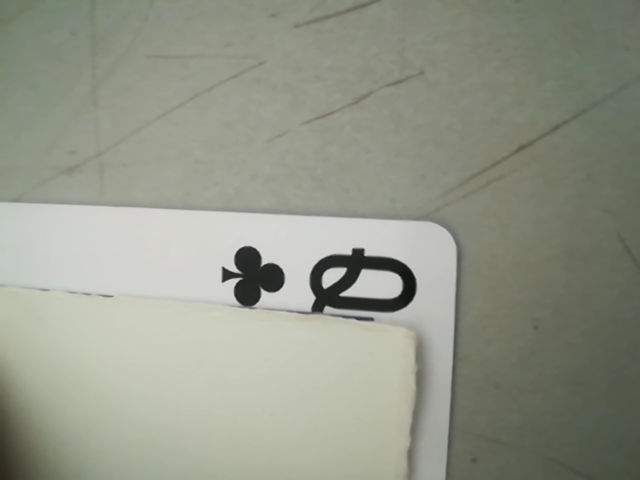fk q: (200, 219, 448, 346)
